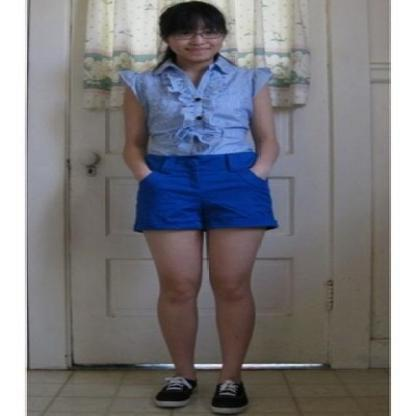shirt: (126, 58, 274, 155)
shoe: (155, 367, 247, 407)
shorts: (133, 51, 277, 234)
